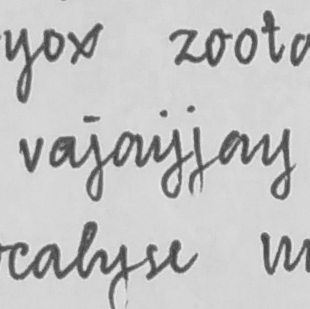a: (110, 128, 145, 171), (215, 128, 251, 167), (47, 132, 78, 170)
j: (81, 113, 106, 204), (186, 105, 207, 198)
v: (16, 134, 45, 175)
y: (258, 126, 297, 202), (147, 126, 184, 200)
